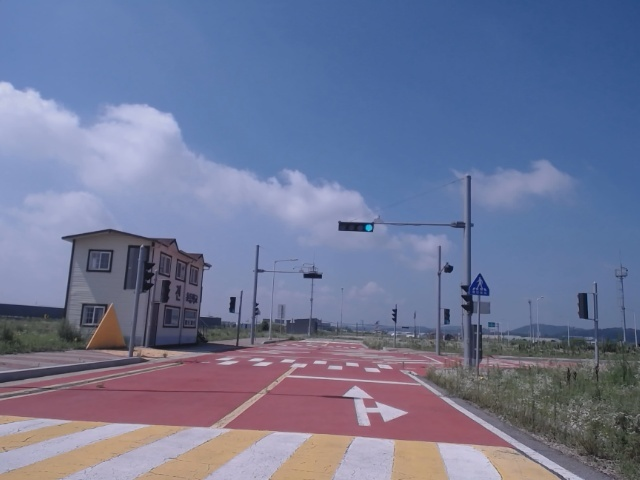straight_green_4: (338, 223, 374, 232)
